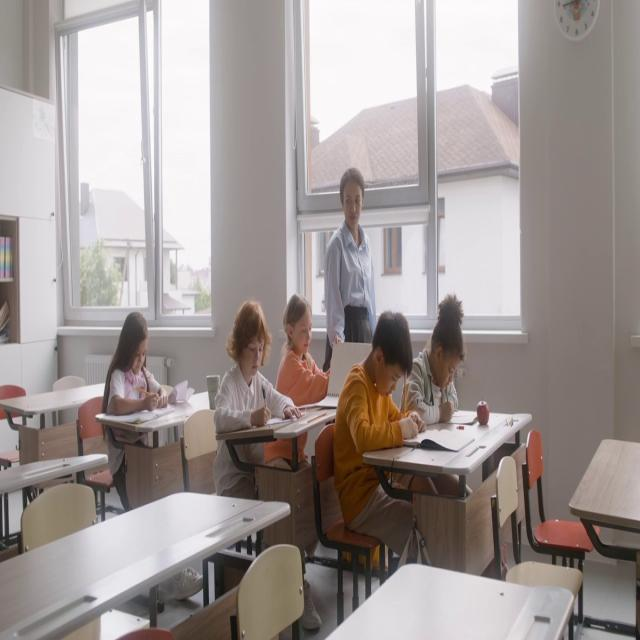writing: (333, 310, 442, 582), (104, 312, 200, 582), (203, 282, 301, 485), (270, 295, 328, 464), (401, 294, 463, 428)
